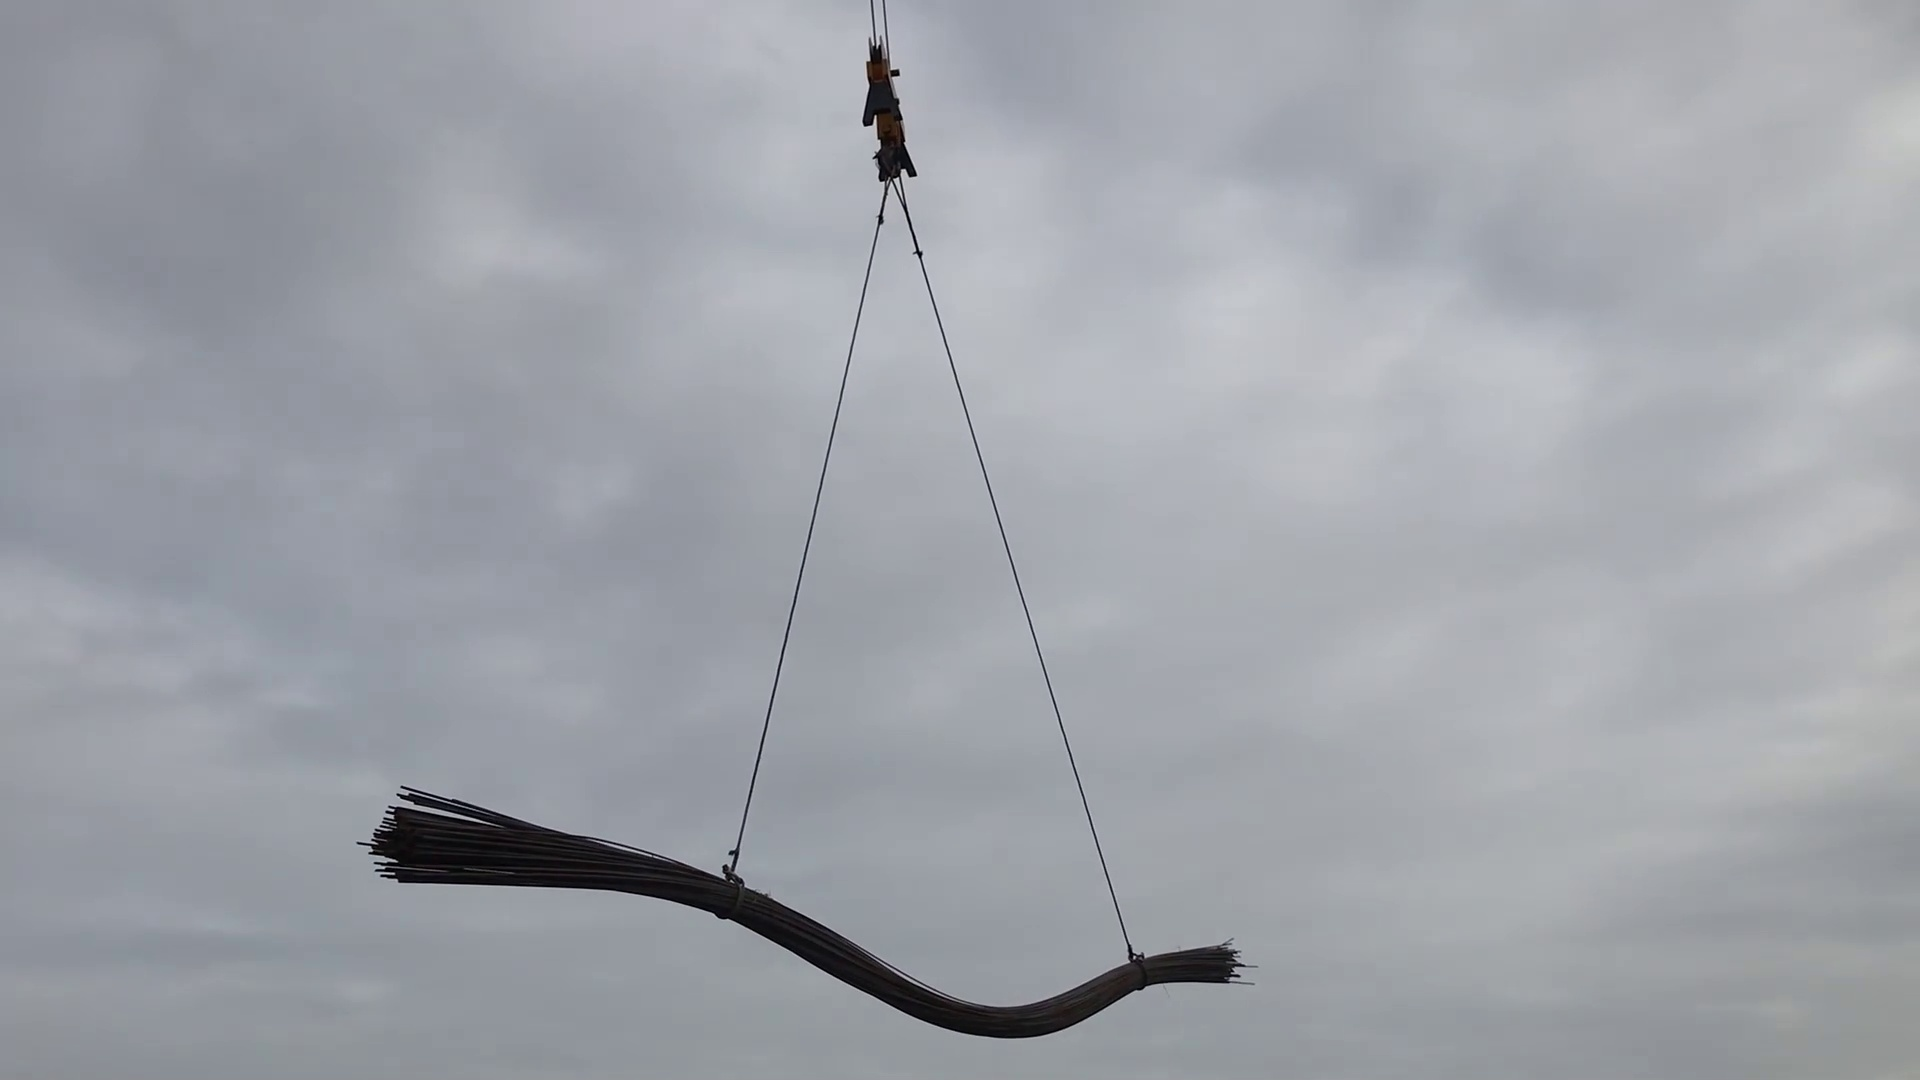hook: (853, 37, 924, 193)
rebar: (314, 746, 1472, 1080)
